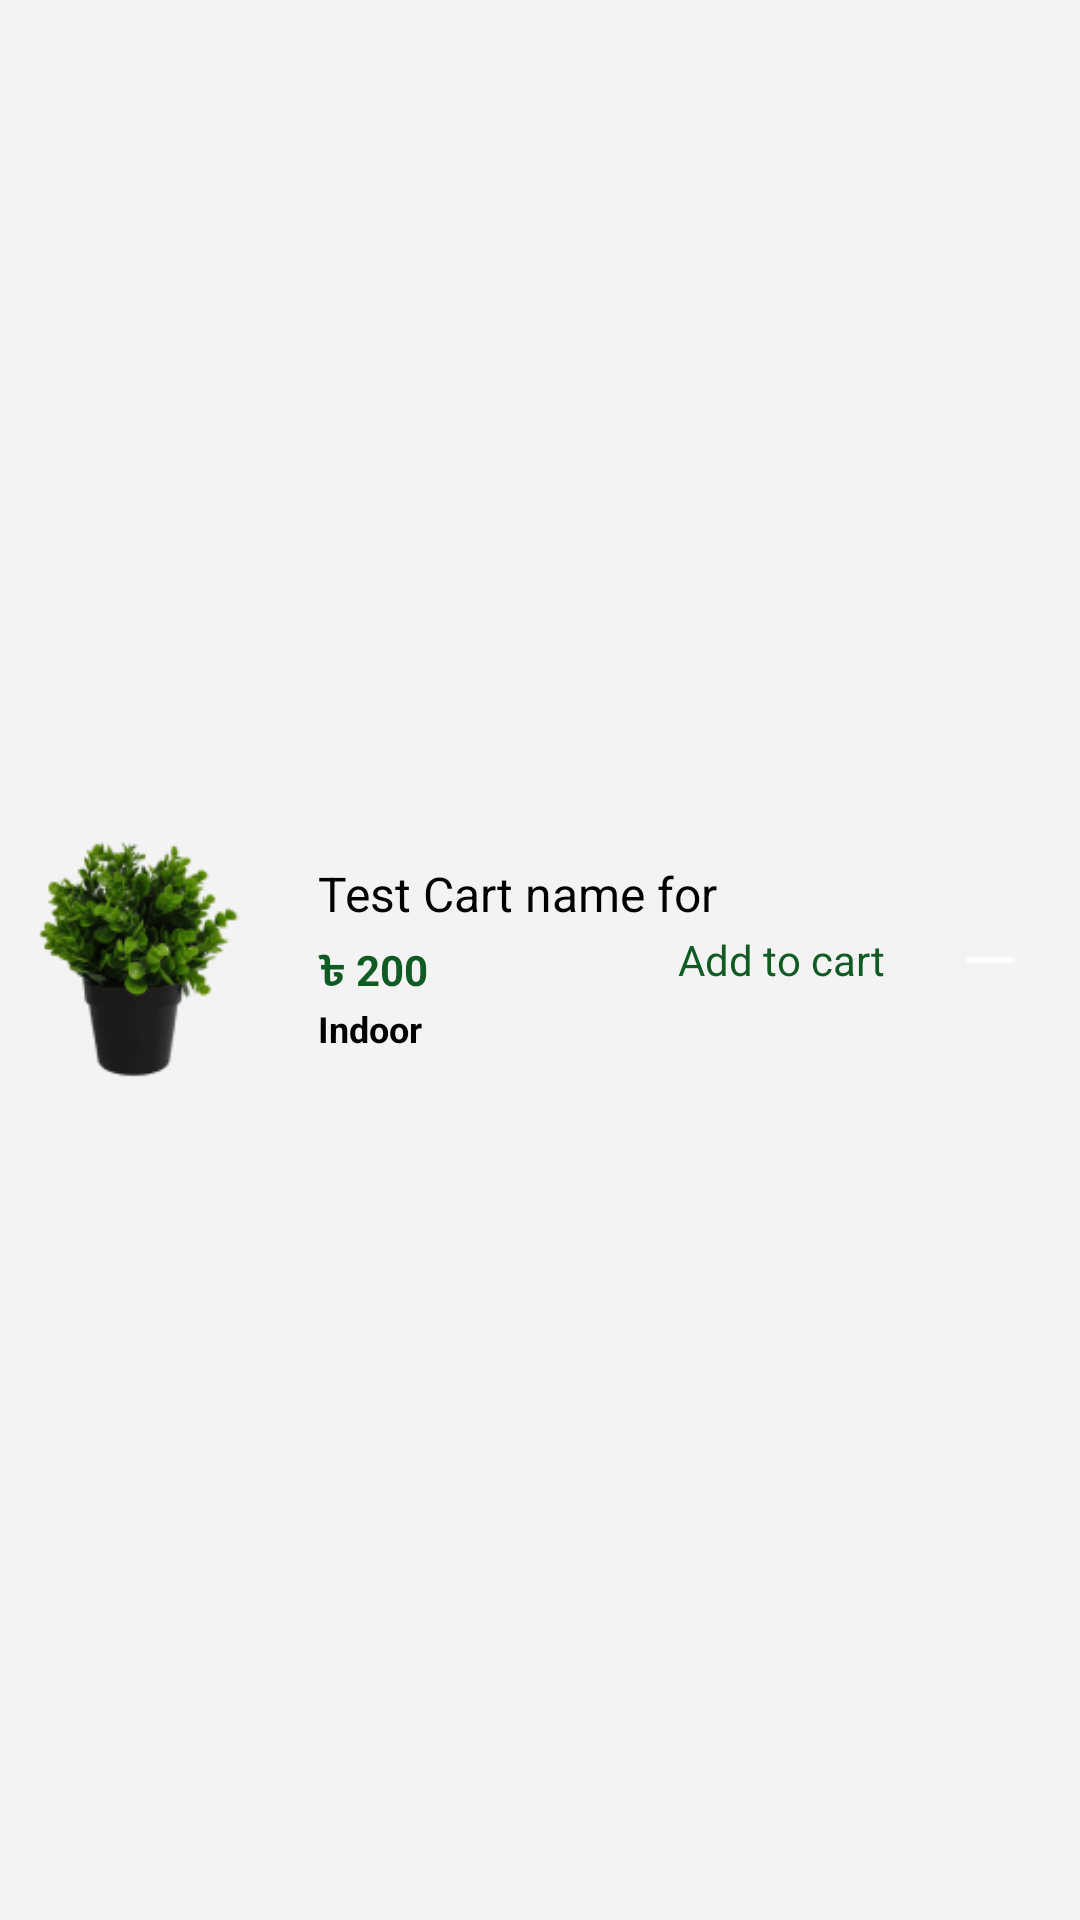

Locate icon controls on the screen. Image size 1080px×1920px, boxes as (x1, y1, x2, y2).
plant: (39, 842, 238, 1077)
